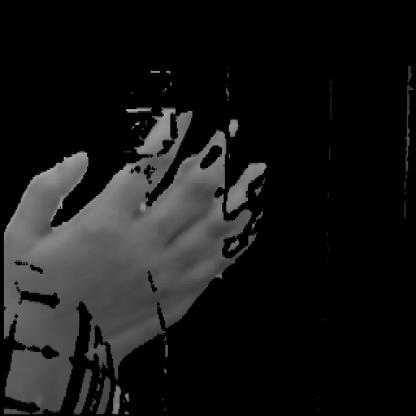dua: (14, 100, 270, 379)
